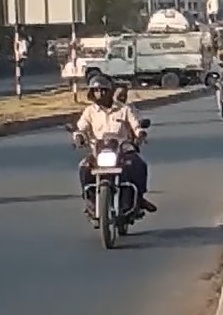BikeWithRider: (62, 70, 156, 249)
Helmet: (85, 71, 117, 108)
NoHelmet: (112, 82, 130, 107)
